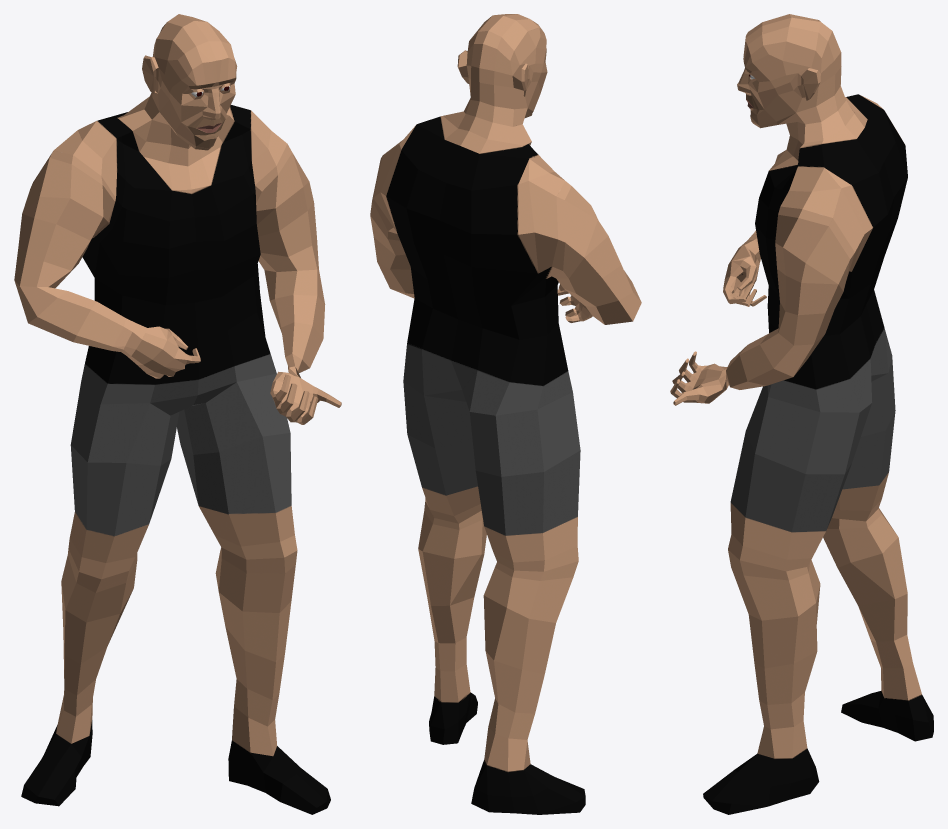
The model's file is PlayerIdle(99).obj.
3 views of the same model, side by side, from view 1: azimuth 30°, elevation 25°; view 2: azimuth 150°, elevation 25°; view 3: azimuth 270°, elevation 25° (orthographic). The views are drawn at different scales.
Parts seen in each view (by area): view 1: Plane002; view 2: Plane002; view 3: Plane002.
Part boxes in pixels (box(x1,y1,x2,y2)): Plane002: box(14, 14, 341, 814); Plane002: box(370, 14, 641, 814); Plane002: box(670, 14, 933, 814).
Size of the model in its own units: 682 by 1804 by 576.
